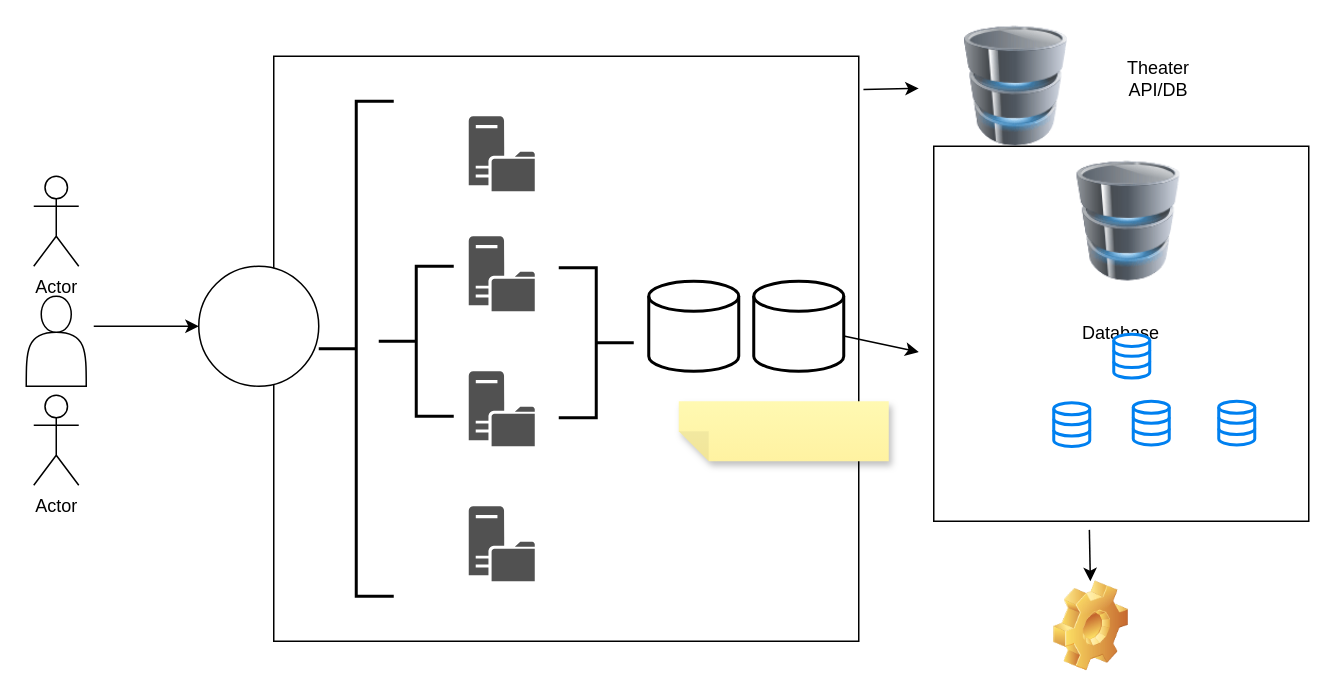
Some shapes in this 1335 by 696 pixel diagram are drawn without their labels. Here are the shapes that lost their labels. From the top down, the centre of each, then its label:
At [258,325]: "Load Balancer".
At [784,432]: "Distributed Cache".
